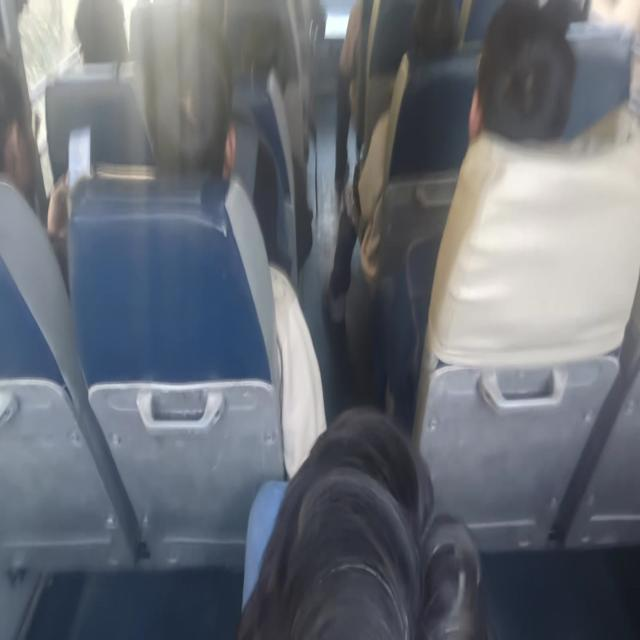person: (426, 1, 638, 371), (324, 0, 469, 414), (187, 59, 328, 479), (237, 404, 483, 638), (0, 54, 70, 294), (72, 0, 129, 65)
